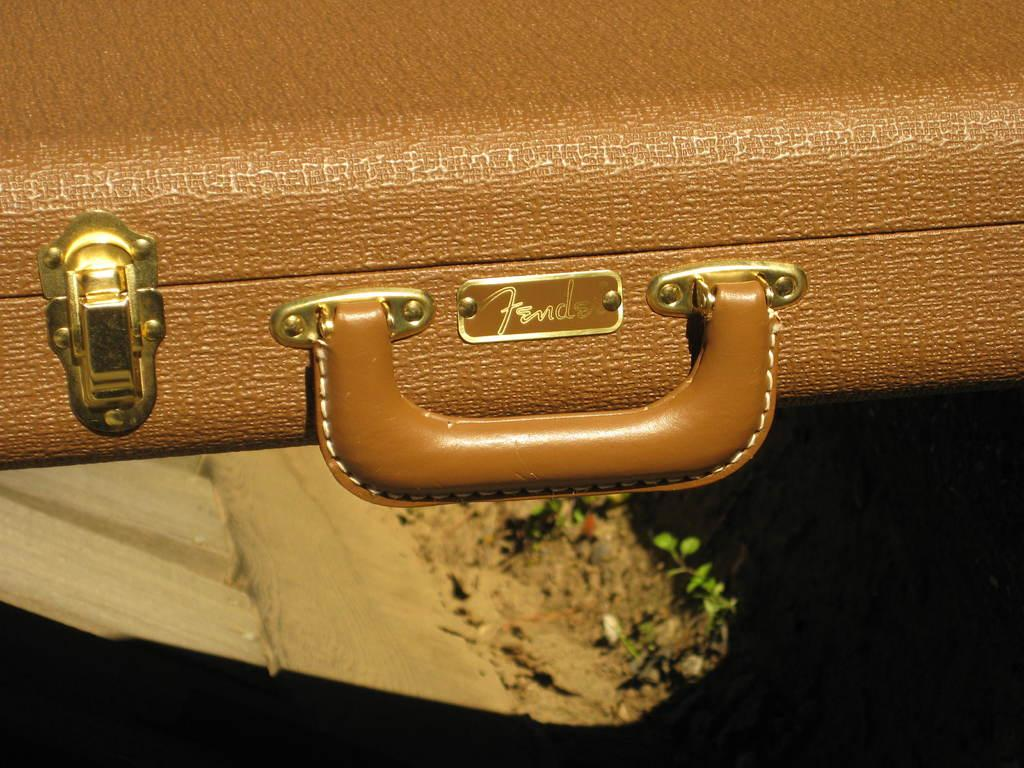Luggage-and-bags: (0, 1, 1023, 497)
